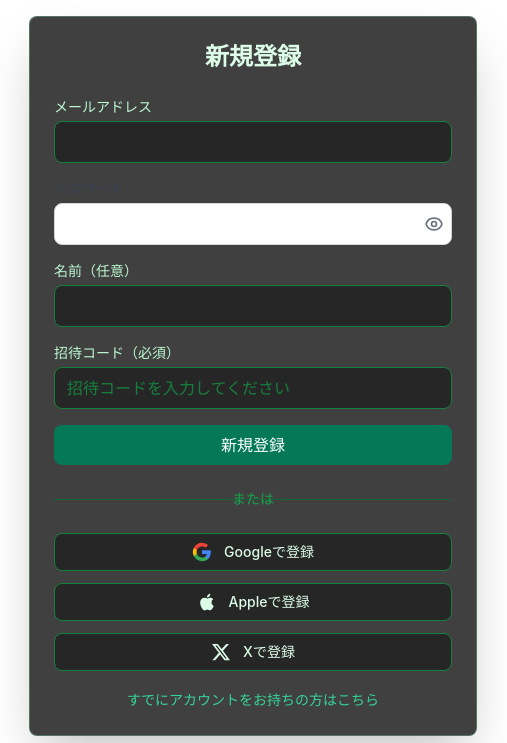
Scenario: EmailAuthForm - 新フロー対応 (タスク7.2) › ApiError.code ベースのエラー判定 (Req 7.2, 7.3) › signup 失敗時に ApiError.code から resolveInvitationErrorMessage で文言を表示する
The width and height of the screenshot is (507, 743).
Type "test@example.com" into the field with id "email".
click(253, 142); type("test@example.com")  # box top-left (54, 121), bottom-right (452, 163)
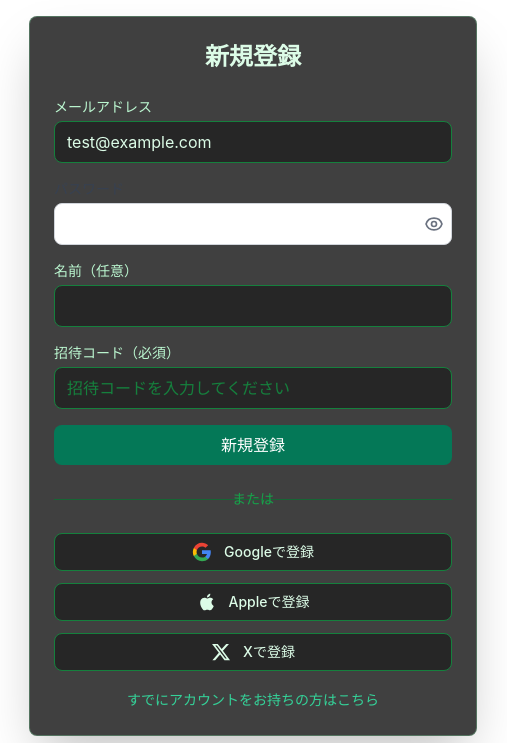
Type "P@ssword123" into the password field labelled "パスワード".
click(253, 224); type("P@ssword123")  # box top-left (54, 203), bottom-right (452, 245)
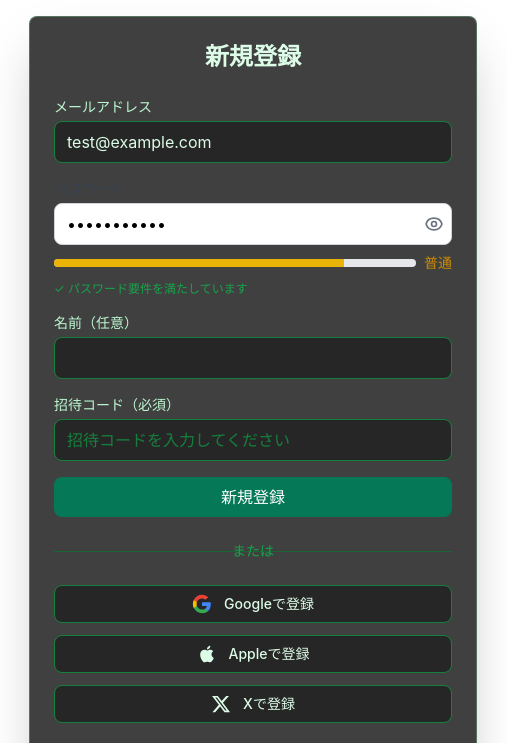
Type "k9x7m2j3pq" into the field with id "invitationCode".
click(253, 440); type("k9x7m2j3pq")  # box top-left (54, 419), bottom-right (452, 461)
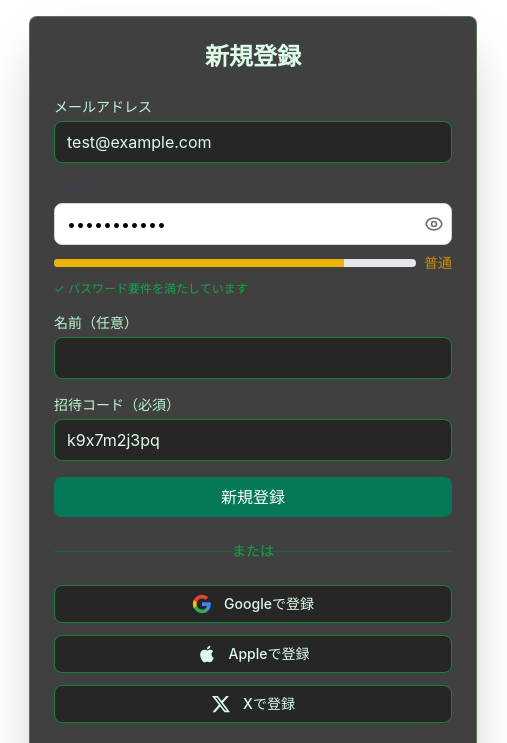
Click the button "新規登録".
click(253, 497)  # box top-left (54, 477), bottom-right (452, 517)
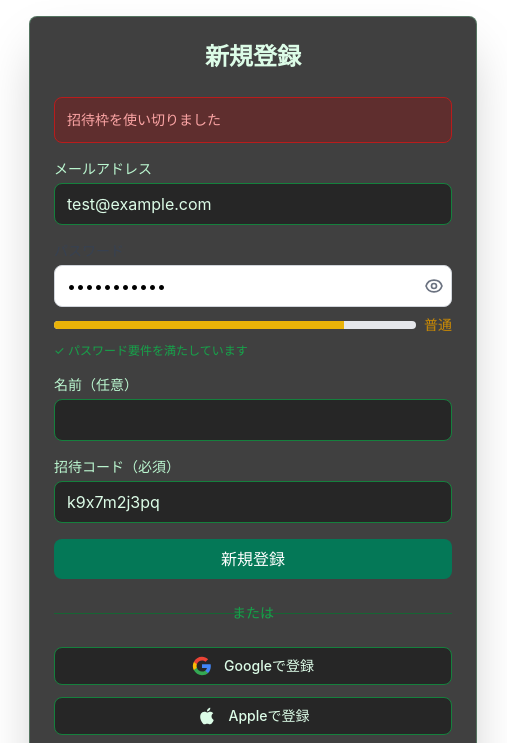
Expected: the text "招待枠を使い切りました" is shown, top-left (54, 97), bottom-right (452, 143)
